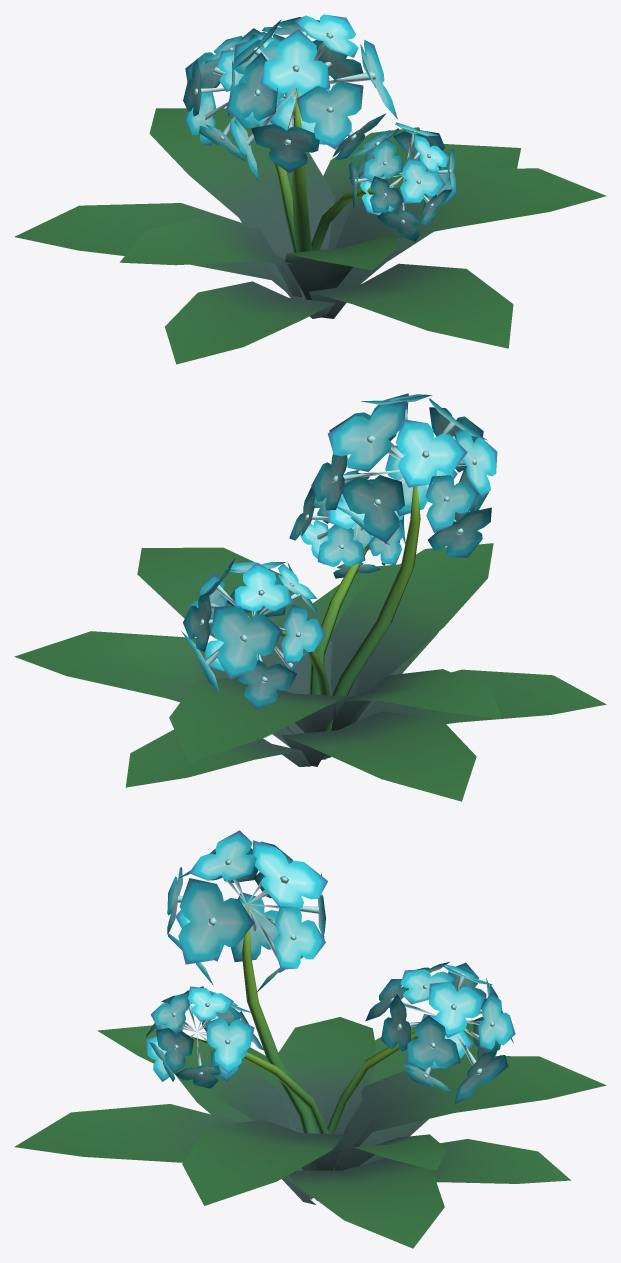
Rendered from Flower_Decoration_03.fbx.
3 renders of one model, top to bottom at view 1: azimuth 30°, elevation 25°; view 2: azimuth 150°, elevation 25°; view 3: azimuth 270°, elevation 25°, orthographic. The views are drawn at different scales.
Visible parts, largest first — view 1: Flower.028; view 2: Flower.028; view 3: Flower.028.
Boxes of the visible parts, x1=… form: Flower.028: x1=14, y1=14, x2=606, y2=364; Flower.028: x1=14, y1=393, x2=606, y2=801; Flower.028: x1=14, y1=830, x2=606, y2=1248.
Size of the model in its own units: 444 by 305 by 487.
